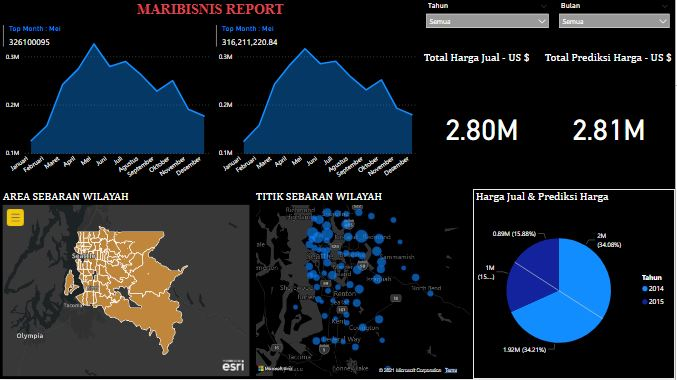

The page's visual inventory and layout, read from the dashboard file:
{"tool":"powerbi","page":{"name":"Halaman 1","canvas":[1280,720],"ordinal":0},"visuals":[{"type":"map","title":"TITIK SEBARAN WILAYAH","fields":{"Category":["MariBisnis_Scored_Model.zipcode"],"Size":["Sum(MariBisnis_Scored_Model.price)"]},"box":[479.8,360.3,417.2,360.3],"z":0},{"type":"card","title":"Total Prediksi Harga - US $","fields":{"Values":["Sum(MariBisnis_Scored_Model.Scored Labels)"]},"box":[1027.8,96.7,252.2,263.6],"z":1000},{"type":"card","title":"Total Harga Jual - US $","fields":{"Values":["Sum(MariBisnis_Scored_Model.price)"]},"box":[798.3,96.7,229.5,263.6],"z":2000},{"type":"slicer","fields":{"Values":["MariBisnis_Scored_Model.date.Variasi.Hierarki Tanggal.Bulan"]},"box":[1050.5,0,229.5,96.7],"z":3000},{"type":"slicer","fields":{"Values":["MariBisnis_Scored_Model.date.Variasi.Hierarki Tanggal.Tahun"]},"box":[798.3,0,252.2,96.7],"z":4000},{"type":"areaChart","fields":{"Y":["Sum(MariBisnis_Scored_Model.price)"],"Category":["MariBisnis_Scored_Model.date.Variasi.Hierarki Tanggal.Bulan"]},"box":[0,49.3,403.9,311],"z":5000},{"type":"pieChart","title":"Harga Jual & Prediksi Harga","fields":{"Y":["Sum(MariBisnis_Scored_Model.price)","Sum(MariBisnis_Scored_Model.Scored Labels)"],"Category":["MariBisnis_Scored_Model.date.Variasi.Hierarki Tanggal.Tahun"]},"box":[896.9,360.3,383.1,360.3],"z":6000},{"type":"areaChart","fields":{"Y":["Sum(MariBisnis_Scored_Model.Scored Labels)"],"Category":["MariBisnis_Scored_Model.date.Variasi.Hierarki Tanggal.Bulan"]},"box":[403.9,49.3,394.4,311],"z":7000},{"type":"multiRowCard","fields":{"Values":["MariBisnis_Scored_Model.Top Month","Sum(MariBisnis_Scored_Model.price)"]},"box":[0,43.6,149.8,53.1],"z":8000},{"type":"multiRowCard","fields":{"Values":["MariBisnis_Scored_Model.Top Month","Sum(MariBisnis_Scored_Model.Scored Labels)"]},"box":[403.9,43.6,149.8,53.1],"z":9000},{"type":"textbox","box":[0,0,798.3,43.6],"z":10000},{"type":"esriVisual","title":"AREA SEBARAN WILAYAH","fields":{"Location":["MariBisnis_Scored_Model.zipcode"],"Size":["Sum(MariBisnis_Scored_Model.price)"],"Color":["Sum(MariBisnis_Scored_Model.Scored Labels)"]},"box":[0,360.3,477.9,360.3],"z":11000}]}

Visuals, with their boxes in screenshot pixels (x1, y1, x2, y2), scaled from the page's 1280x720 canvas onto the 677x380 screenshot:
"TITIK SEBARAN WILAYAH" map: Rect(254, 190, 474, 379)
"Total Prediksi Harga - US $" card: Rect(544, 51, 676, 190)
"Total Harga Jual - US $" card: Rect(422, 51, 544, 190)
slicer - MariBisnis_Scored_Model.date.Variasi.Hierarki Tanggal.Bulan: Rect(556, 0, 676, 51)
slicer - MariBisnis_Scored_Model.date.Variasi.Hierarki Tanggal.Tahun: Rect(422, 0, 556, 51)
areaChart - Sum(MariBisnis_Scored_Model.price) x MariBisnis_Scored_Model.date.Variasi.Hierarki Tanggal.Bulan: Rect(0, 26, 214, 190)
"Harga Jual & Prediksi Harga" pieChart: Rect(474, 190, 676, 379)
areaChart - Sum(MariBisnis_Scored_Model.Scored Labels) x MariBisnis_Scored_Model.date.Variasi.Hierarki Tanggal.Bulan: Rect(214, 26, 422, 190)
multiRowCard - MariBisnis_Scored_Model.Top Month x Sum(MariBisnis_Scored_Model.price): Rect(0, 23, 79, 51)
multiRowCard - MariBisnis_Scored_Model.Top Month x Sum(MariBisnis_Scored_Model.Scored Labels): Rect(214, 23, 293, 51)
textbox: Rect(0, 0, 422, 23)
"AREA SEBARAN WILAYAH" esriVisual: Rect(0, 190, 253, 379)
